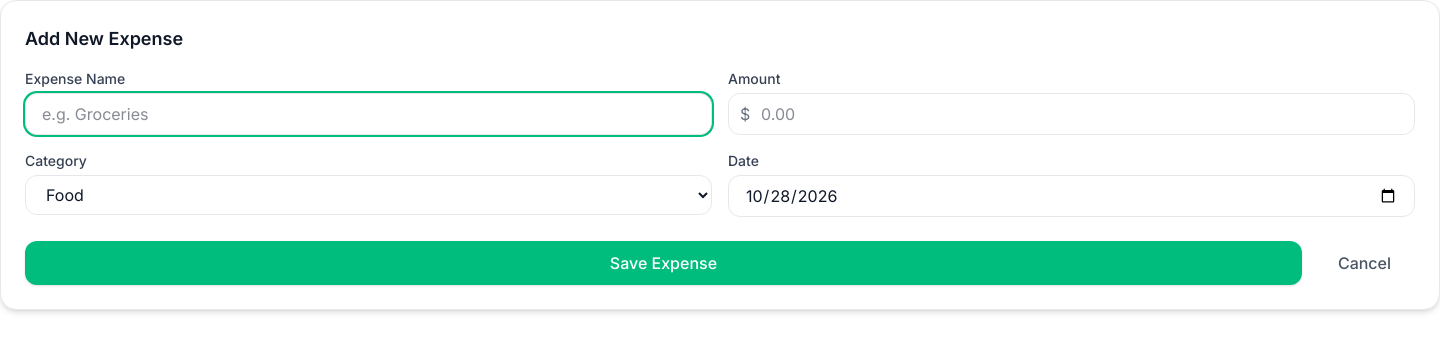
Scenario: ExpenseForm Validation › displays Zod validation error for negative amount
Type "Groceries" into the field with test id "expense-name-input".
click(368, 114); type("Groceries")  # box [25,93,712,135]
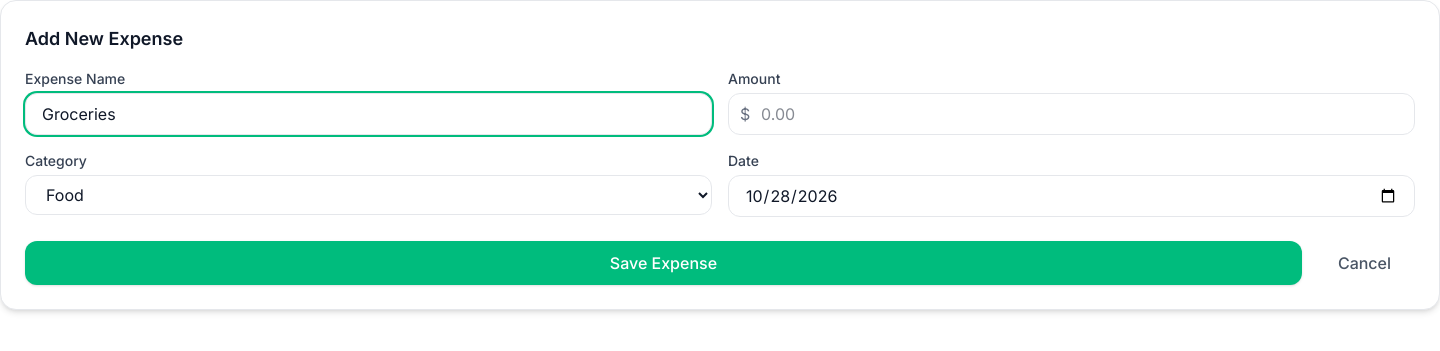
Type "-50" into the number field with test id "expense-amount-input".
click(1072, 114); type("-50")  # box [728,93,1415,135]
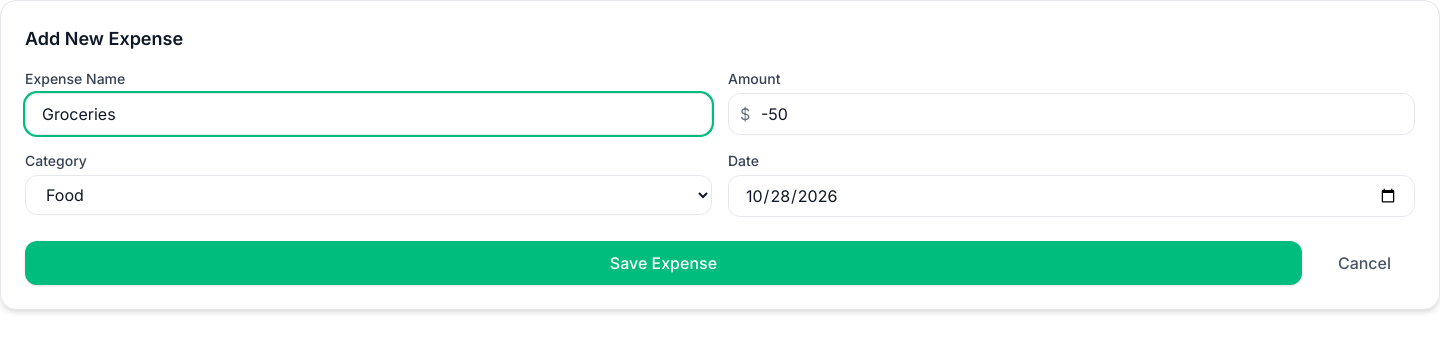
Click the button "Save Expense".
click(663, 263)  # box [25,241,1302,285]
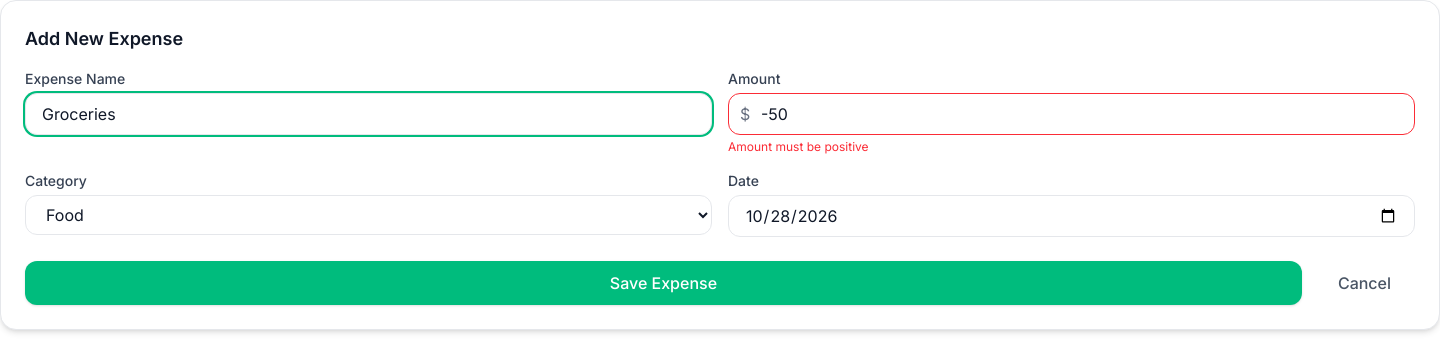
Result: the text "Amount must be positive" is shown at [728,139,869,154]
